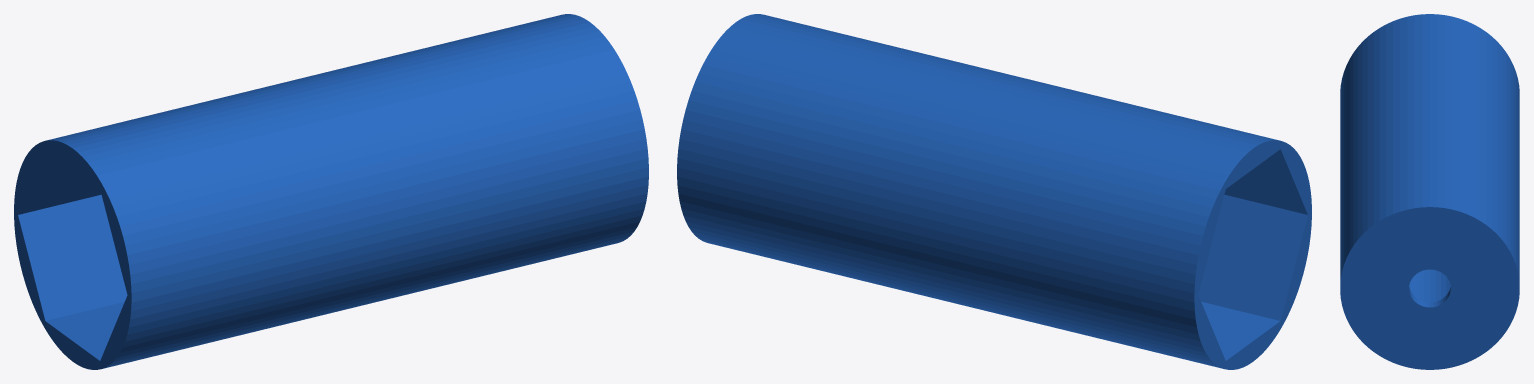
The model's file is 3.2.1.1 Stable Mechanism.glb.
3 renders of one model, left to right at view 1: azimuth 30°, elevation 25°; view 2: azimuth 150°, elevation 25°; view 3: azimuth 270°, elevation 25°, orthographic. The views are drawn at different scales.
Parts seen in each view (by area): view 1: empty_2; view 2: empty_2; view 3: empty_2.
Part boxes in pixels (left/top/right/bottom): empty_2: left=14, top=14, right=648, bottom=369; empty_2: left=677, top=14, right=1311, bottom=369; empty_2: left=1340, top=14, right=1519, bottom=369.
Size of the model in its own units: 76.2 by 30 by 29.97.
